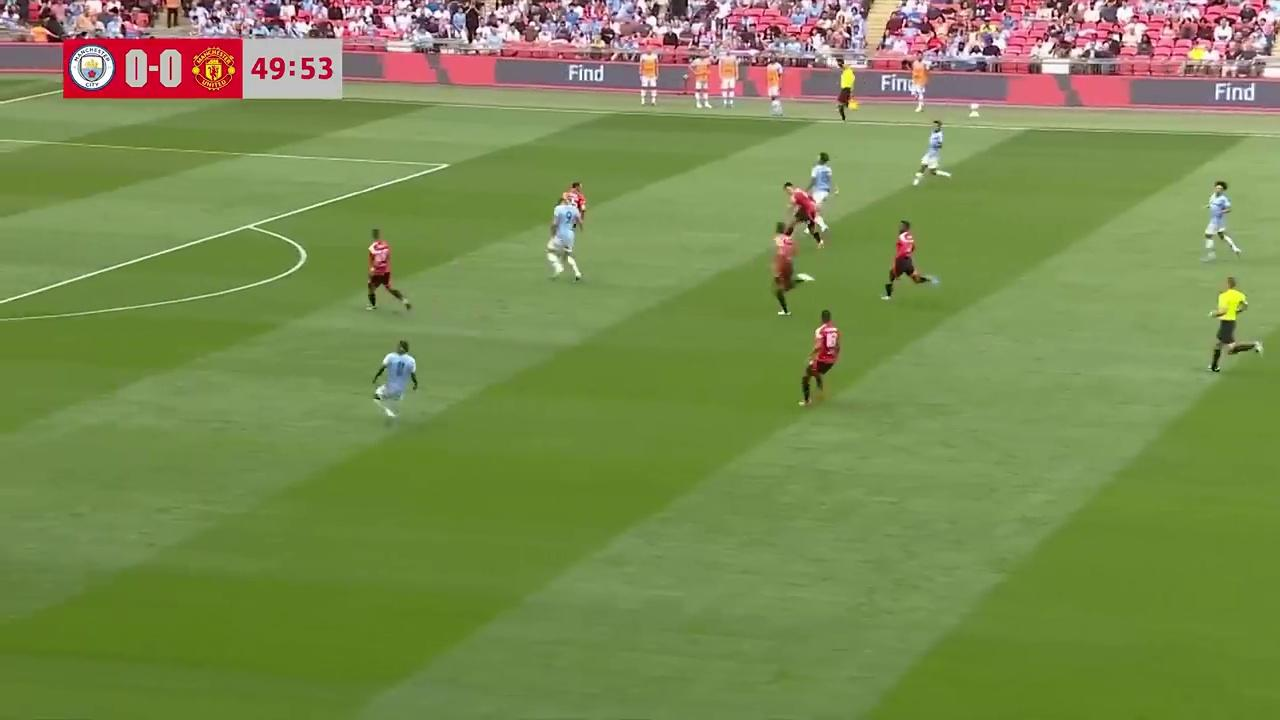player: (881, 220, 938, 300), (797, 309, 841, 407), (372, 339, 419, 423), (365, 228, 411, 313), (546, 192, 583, 283), (769, 220, 804, 315), (1201, 180, 1241, 261), (785, 182, 826, 249), (912, 120, 951, 186), (808, 152, 837, 220), (558, 180, 587, 243)
referee: (1206, 273, 1262, 372), (836, 63, 859, 123)
